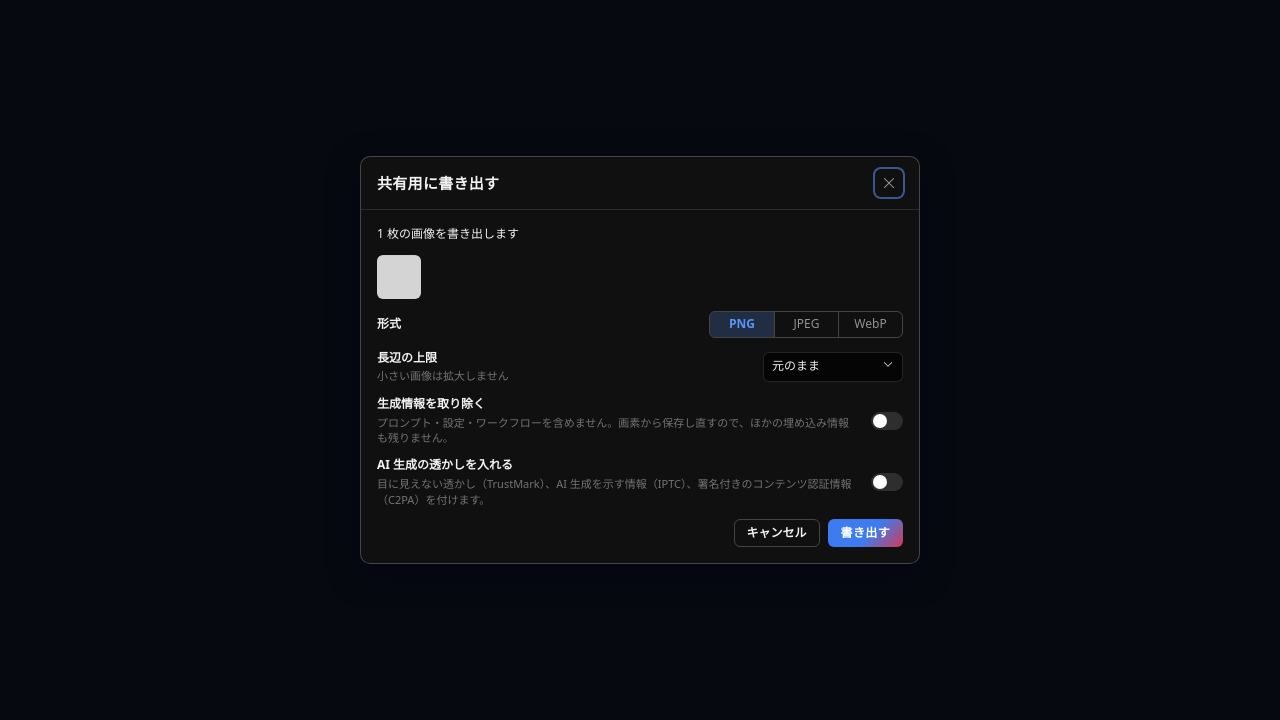
Scenario: export for sharing dialog › shows the quality only for JPEG and sends it
Check: the element with test id "share" is shown, box x1=377 y1=226 x2=903 y2=547
Click the radio button with test id "share-format-jpeg". click: [806, 324]
box: x1=774 y1=312 x2=838 y2=337
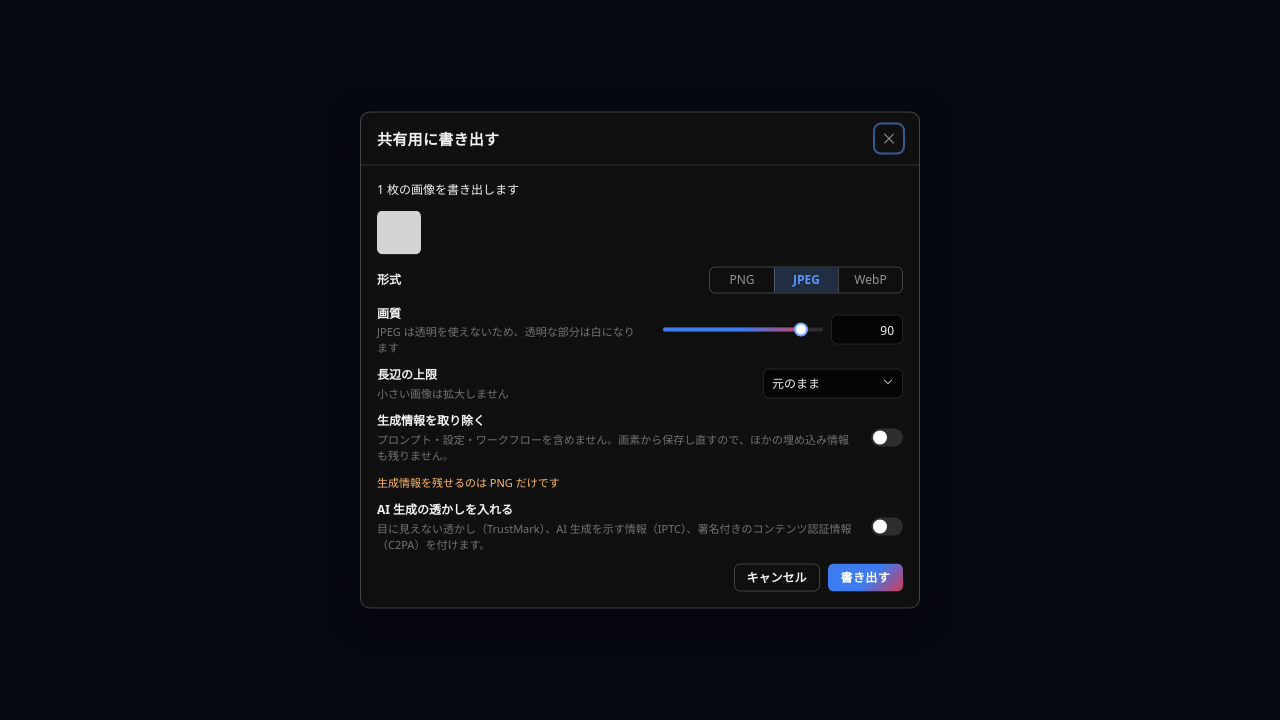
Check: the slider is shown, box x1=794 y1=323 x2=808 y2=337
Click the radio button with test id "share-format-webp". click: [870, 280]
box: x1=838 y1=267 x2=902 y2=292
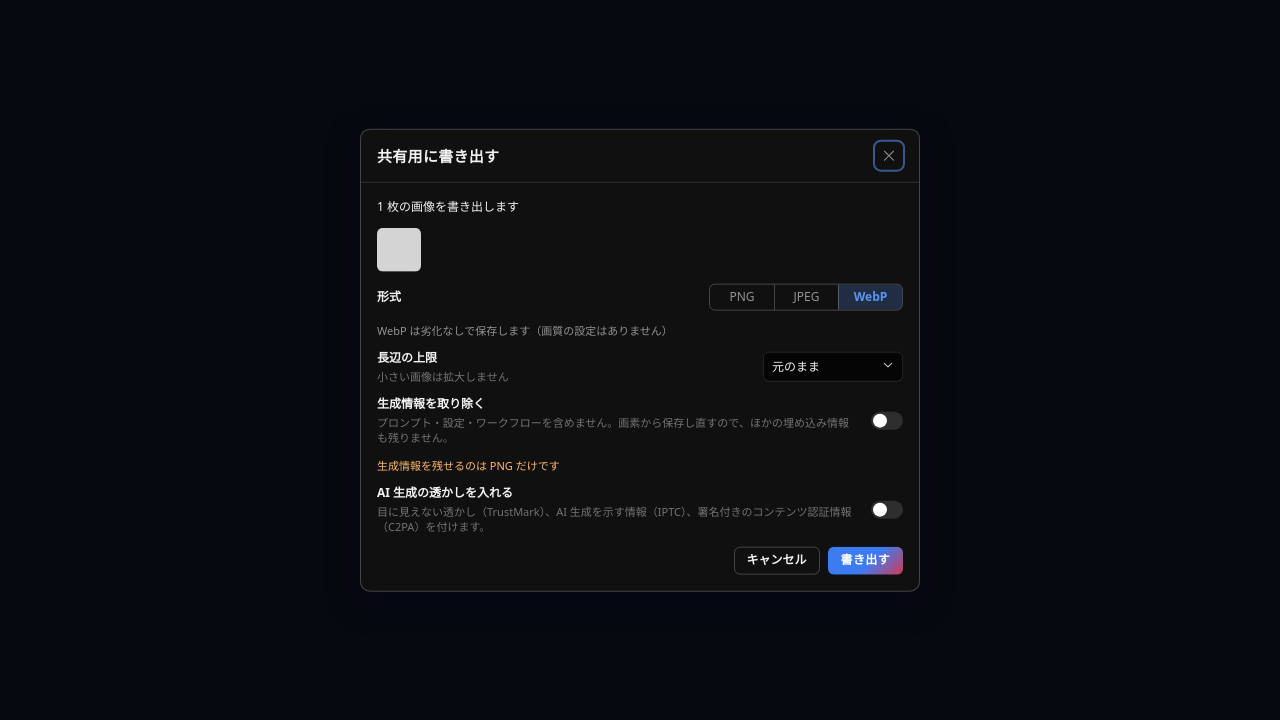
Check: the slider is gone
Click the radio button with test id "share-format-jpeg". click: [806, 297]
box: x1=774 y1=284 x2=838 y2=309
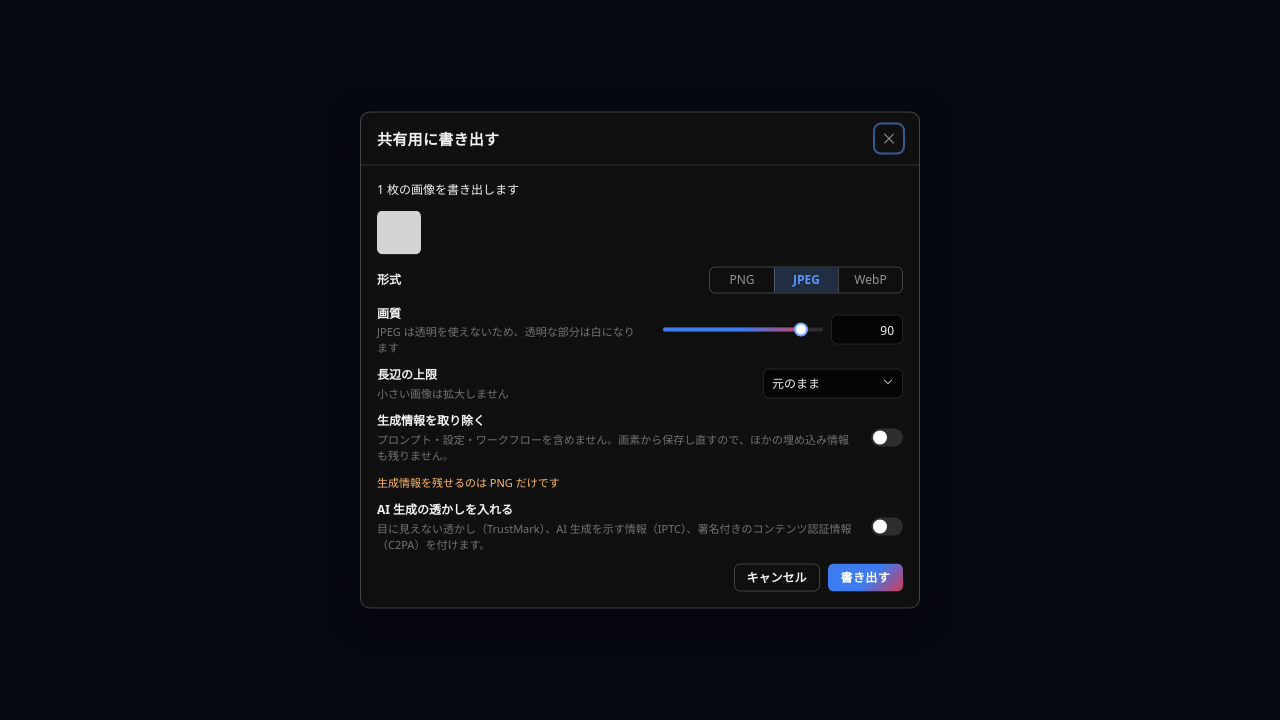
Click the button with test id "share-run". click: [865, 578]
box: x1=828 y1=564 x2=903 y2=592
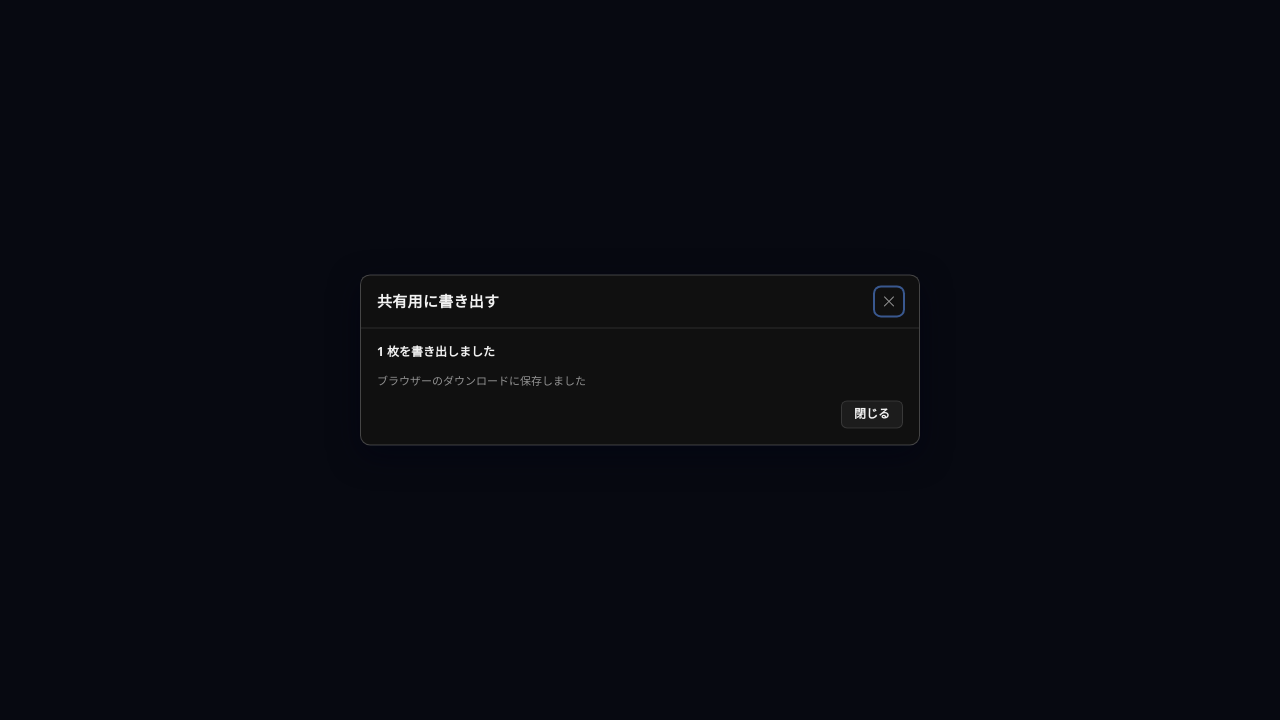
Check: the element with test id "share-done" is shown, box x1=377 y1=344 x2=903 y2=429
